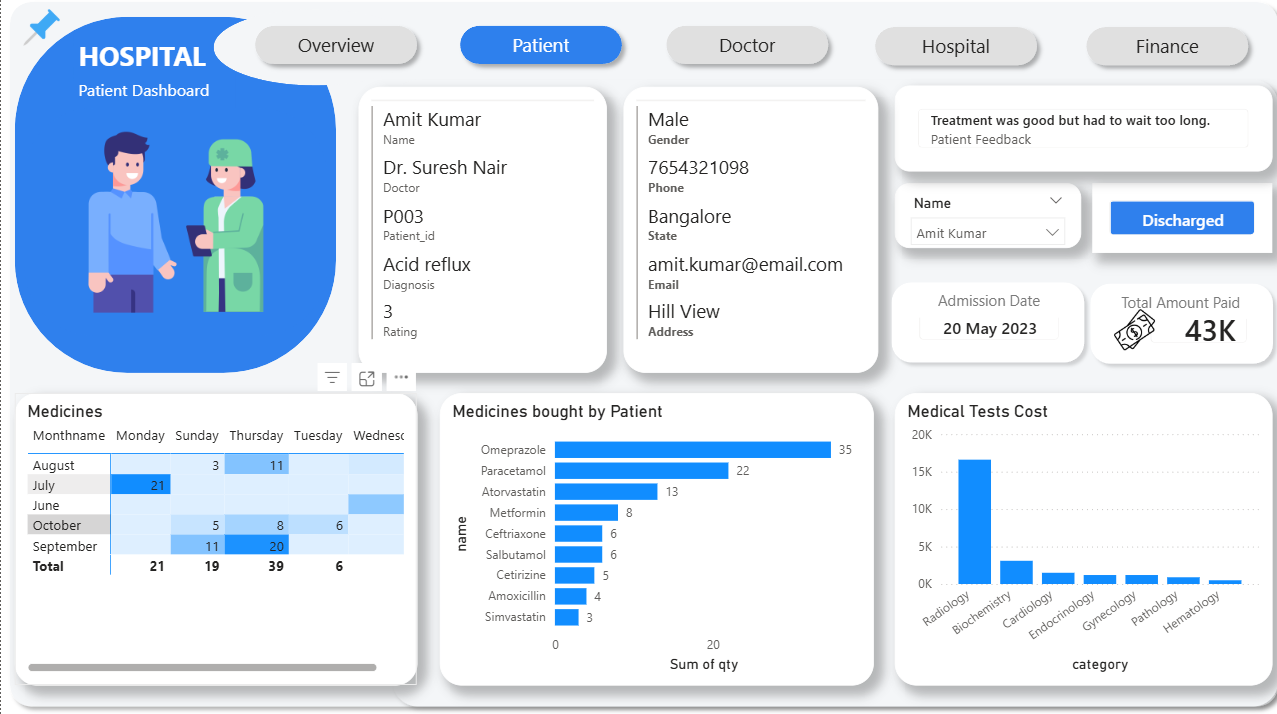

This screenshot's page, from the dashboard's own definition file:
{"tool":"powerbi","page":{"name":"Patient","canvas":[1280,720],"ordinal":2},"visuals":[{"type":"shape","box":[0,0,1280,719],"z":0},{"type":"shape","title":"kpi_bg_temp","box":[878.2,279.9,207.7,95.8],"z":0,"group":"g2"},{"type":"shape","title":"kpi_bg_temp","box":[1076,281.1,197.8,95.8],"z":0,"group":"g1"},{"type":"shape","box":[447.8,23.6,179.1,56],"z":1000},{"type":"cardVisual","fields":{"Data":["Measure Calculation.Total paid amount"]},"box":[1127.3,297,130.6,68.4],"z":1000,"group":"g1"},{"type":"cardVisual","fields":{"Data":["Max(Patient.admission_date)"]},"box":[897.2,297.5,173.9,65.9],"z":1000,"group":"g2"},{"type":"shape","box":[653.1,23.6,179.1,56],"z":2000},{"type":"textbox","box":[902.8,291,160.3,32.3],"z":2000,"group":"g2"},{"type":"textbox","box":[1099.4,292.2,152.6,32.3],"z":2000,"group":"g1"},{"type":"shape","box":[860.8,24.9,179.1,56],"z":3000},{"type":"image","box":[1089,315.2,79.2,40.9],"z":3000,"group":"g1"},{"type":"shape","box":[1071,24.9,179.1,56],"z":4000},{"type":"shape","title":"Blue_base","box":[13.7,23.6,319.7,354.5],"z":5000},{"type":"shape","box":[211.5,16.2,202.8,75.9],"z":6000},{"type":"textbox","box":[72.1,38.6,139.3,53.5],"z":7000},{"type":"shape","box":[243.8,23.6,179.1,56],"z":8000},{"type":"textbox","box":[72.1,79.6,160.5,41.1],"z":9000},{"type":"shape","box":[23.6,114.4,301,226.4],"z":10000},{"type":"image","box":[23.6,126.9,301,202.8],"z":11000},{"type":"shape","title":"white_main_cont","box":[380.6,77.1,899.4,641.9],"z":12000},{"type":"slicer","fields":{"Values":["Patient.name"]},"box":[889.4,189.1,185.3,64.7],"z":13000},{"type":"cardVisual","fields":{"Data":["Measure Calculation.Patient Status"]},"box":[1086,189.1,179.1,69.7],"z":14000},{"type":"multiRowCard","fields":{"Values":["Patient.Name","Patient.Doctor.name","Patient.patient_id","Appointment.diagnosis","Patient.Satisfaction Score.rating"]},"box":[355.8,93.3,247.5,284.9],"z":15000},{"type":"cardVisual","fields":{"Data":["Measure Calculation.Patient Feedback"]},"box":[889.4,92.1,375.7,85.8],"z":16000},{"type":"pivotTable","title":"Medicines","fields":{"Rows":["Calendar_Table.Monthname"],"Columns":["Calendar_Table.Dayname"],"Values":["Sum(medicine patients.qty)"]},"box":[13.7,398.1,400.6,291.1],"z":17000},{"type":"multiRowCard","fields":{"Values":["Patient.gender","Patient.phone","Patient.state","Patient.email","Patient.address"]},"box":[619.5,93.3,253.8,284.9],"z":18000},{"type":"barChart","title":"Medicines bought by Patient","fields":{"Category":["Medical Stock.name"],"Y":["Sum(medicine patients.qty)"]},"box":[436,398.1,431.7,291.1],"z":19000},{"type":"columnChart","title":"Medical Tests Cost","fields":{"Category":["Medical Tests.category"],"Y":["Sum(Medical Tests.cost)"]},"box":[889.4,398.1,375.7,291.1],"z":20000},{"type":"image","box":[13.7,16.2,53.5,36.1],"z":21000},{"type":"group","id":"g1","title":"kpi_patients","box":[1076,281.1,199,95.8],"z":22000},{"type":"group","id":"g2","title":"kpi_patients","box":[878.2,279.9,207.7,95.8],"z":23000}]}

Visuals, with their boxes in screenshot pixels (x1, y1, x2, y2), scaled from the page's 1280x720 canvas onto the 1277x714 screenshot:
shape: (left=0, top=0, right=1276, bottom=713)
"kpi_bg_temp" shape: (left=876, top=278, right=1083, bottom=373)
"kpi_bg_temp" shape: (left=1073, top=279, right=1271, bottom=374)
shape: (left=447, top=23, right=625, bottom=79)
cardVisual - Measure Calculation.Total paid amount: (left=1125, top=295, right=1255, bottom=362)
cardVisual - Max(Patient.admission_date): (left=895, top=295, right=1069, bottom=360)
shape: (left=652, top=23, right=830, bottom=79)
textbox: (left=901, top=289, right=1061, bottom=321)
textbox: (left=1097, top=290, right=1249, bottom=322)
shape: (left=859, top=25, right=1037, bottom=80)
image: (left=1086, top=313, right=1165, bottom=353)
shape: (left=1068, top=25, right=1247, bottom=80)
"Blue_base" shape: (left=14, top=23, right=333, bottom=375)
shape: (left=211, top=16, right=413, bottom=91)
textbox: (left=72, top=38, right=211, bottom=91)
shape: (left=243, top=23, right=422, bottom=79)
textbox: (left=72, top=79, right=232, bottom=120)
shape: (left=24, top=113, right=324, bottom=338)
image: (left=24, top=126, right=324, bottom=327)
"white_main_cont" shape: (left=380, top=76, right=1276, bottom=713)
slicer - Patient.name: (left=887, top=188, right=1072, bottom=252)
cardVisual - Measure Calculation.Patient Status: (left=1083, top=188, right=1262, bottom=257)
multiRowCard - Patient.Name x Patient.Doctor.name: (left=355, top=93, right=602, bottom=375)
cardVisual - Measure Calculation.Patient Feedback: (left=887, top=91, right=1262, bottom=176)
"Medicines" pivotTable: (left=14, top=395, right=413, bottom=683)
multiRowCard - Patient.gender x Patient.phone: (left=618, top=93, right=871, bottom=375)
"Medicines bought by Patient" barChart: (left=435, top=395, right=866, bottom=683)
"Medical Tests Cost" columnChart: (left=887, top=395, right=1262, bottom=683)
image: (left=14, top=16, right=67, bottom=52)
"kpi_patients" group: (left=1073, top=279, right=1272, bottom=374)
"kpi_patients" group: (left=876, top=278, right=1083, bottom=373)
